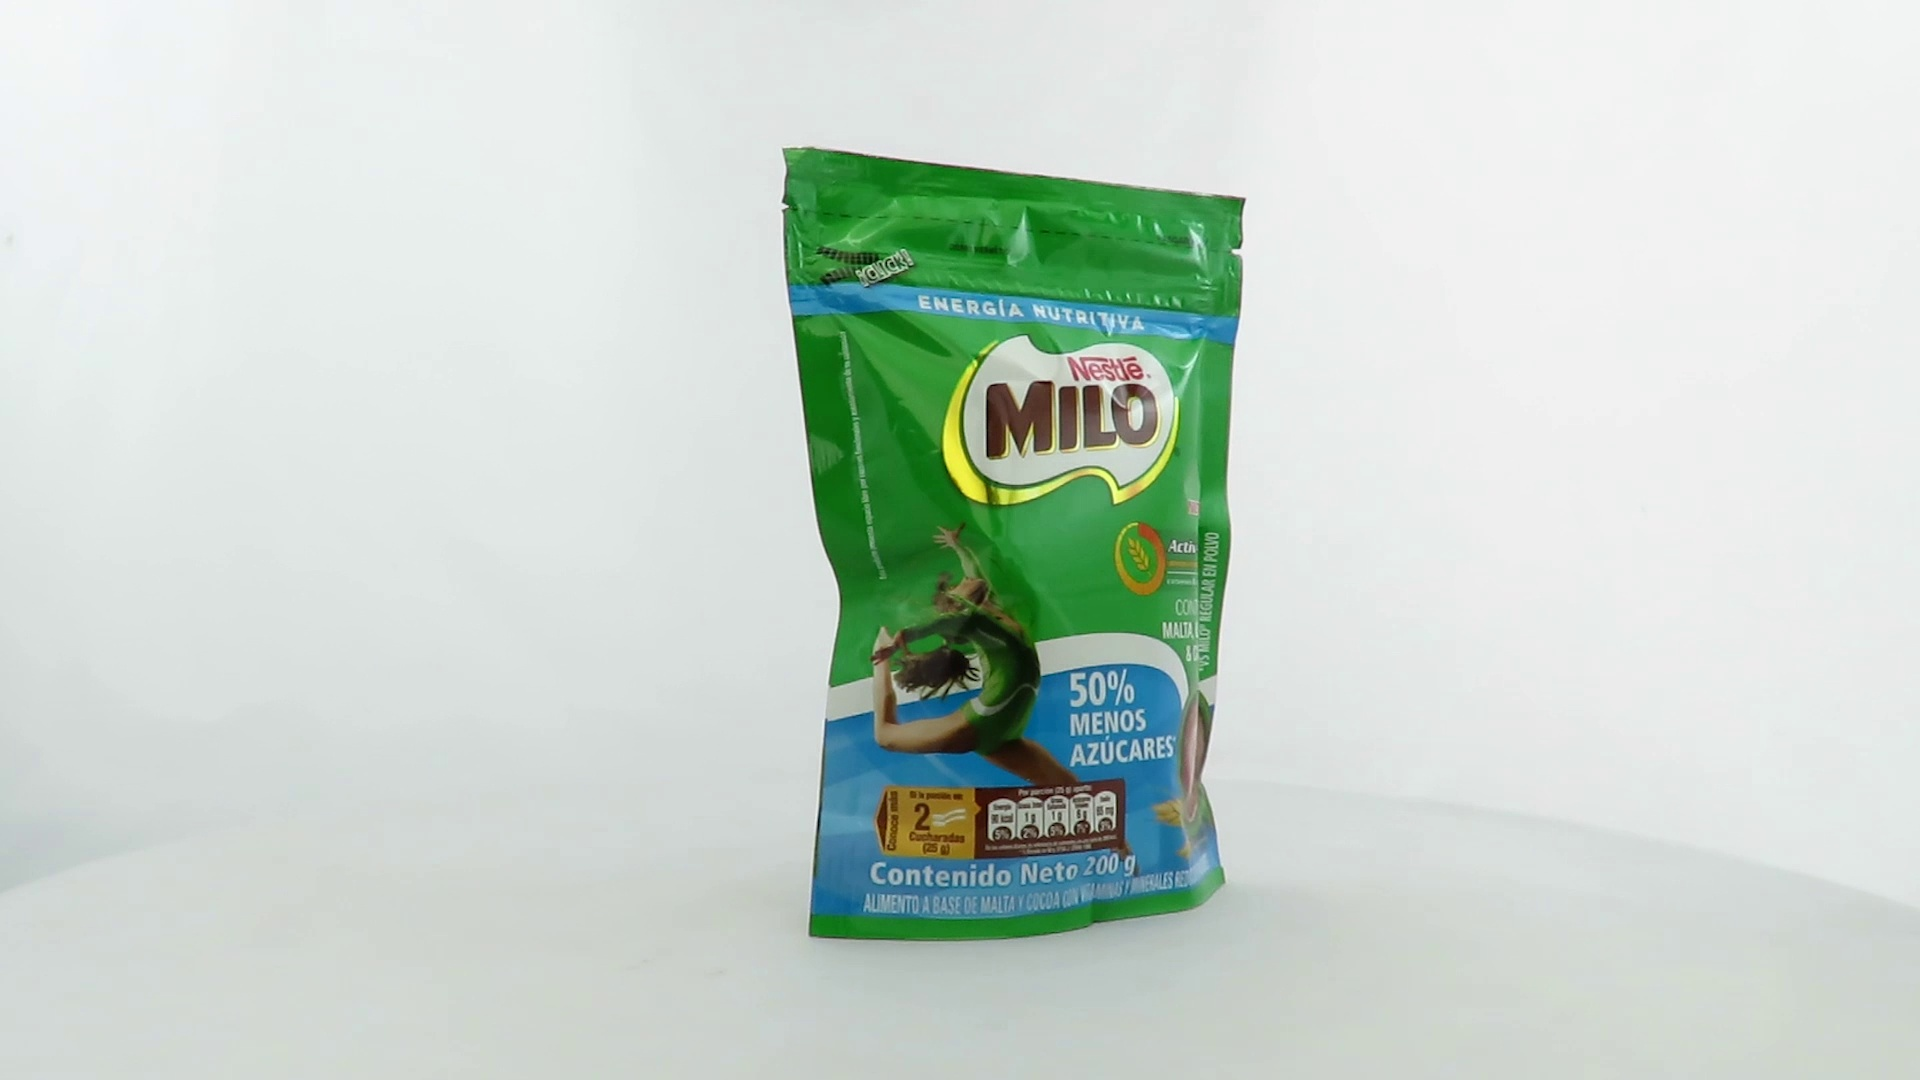COL0170205DYP20000: (777, 142, 1251, 948)
